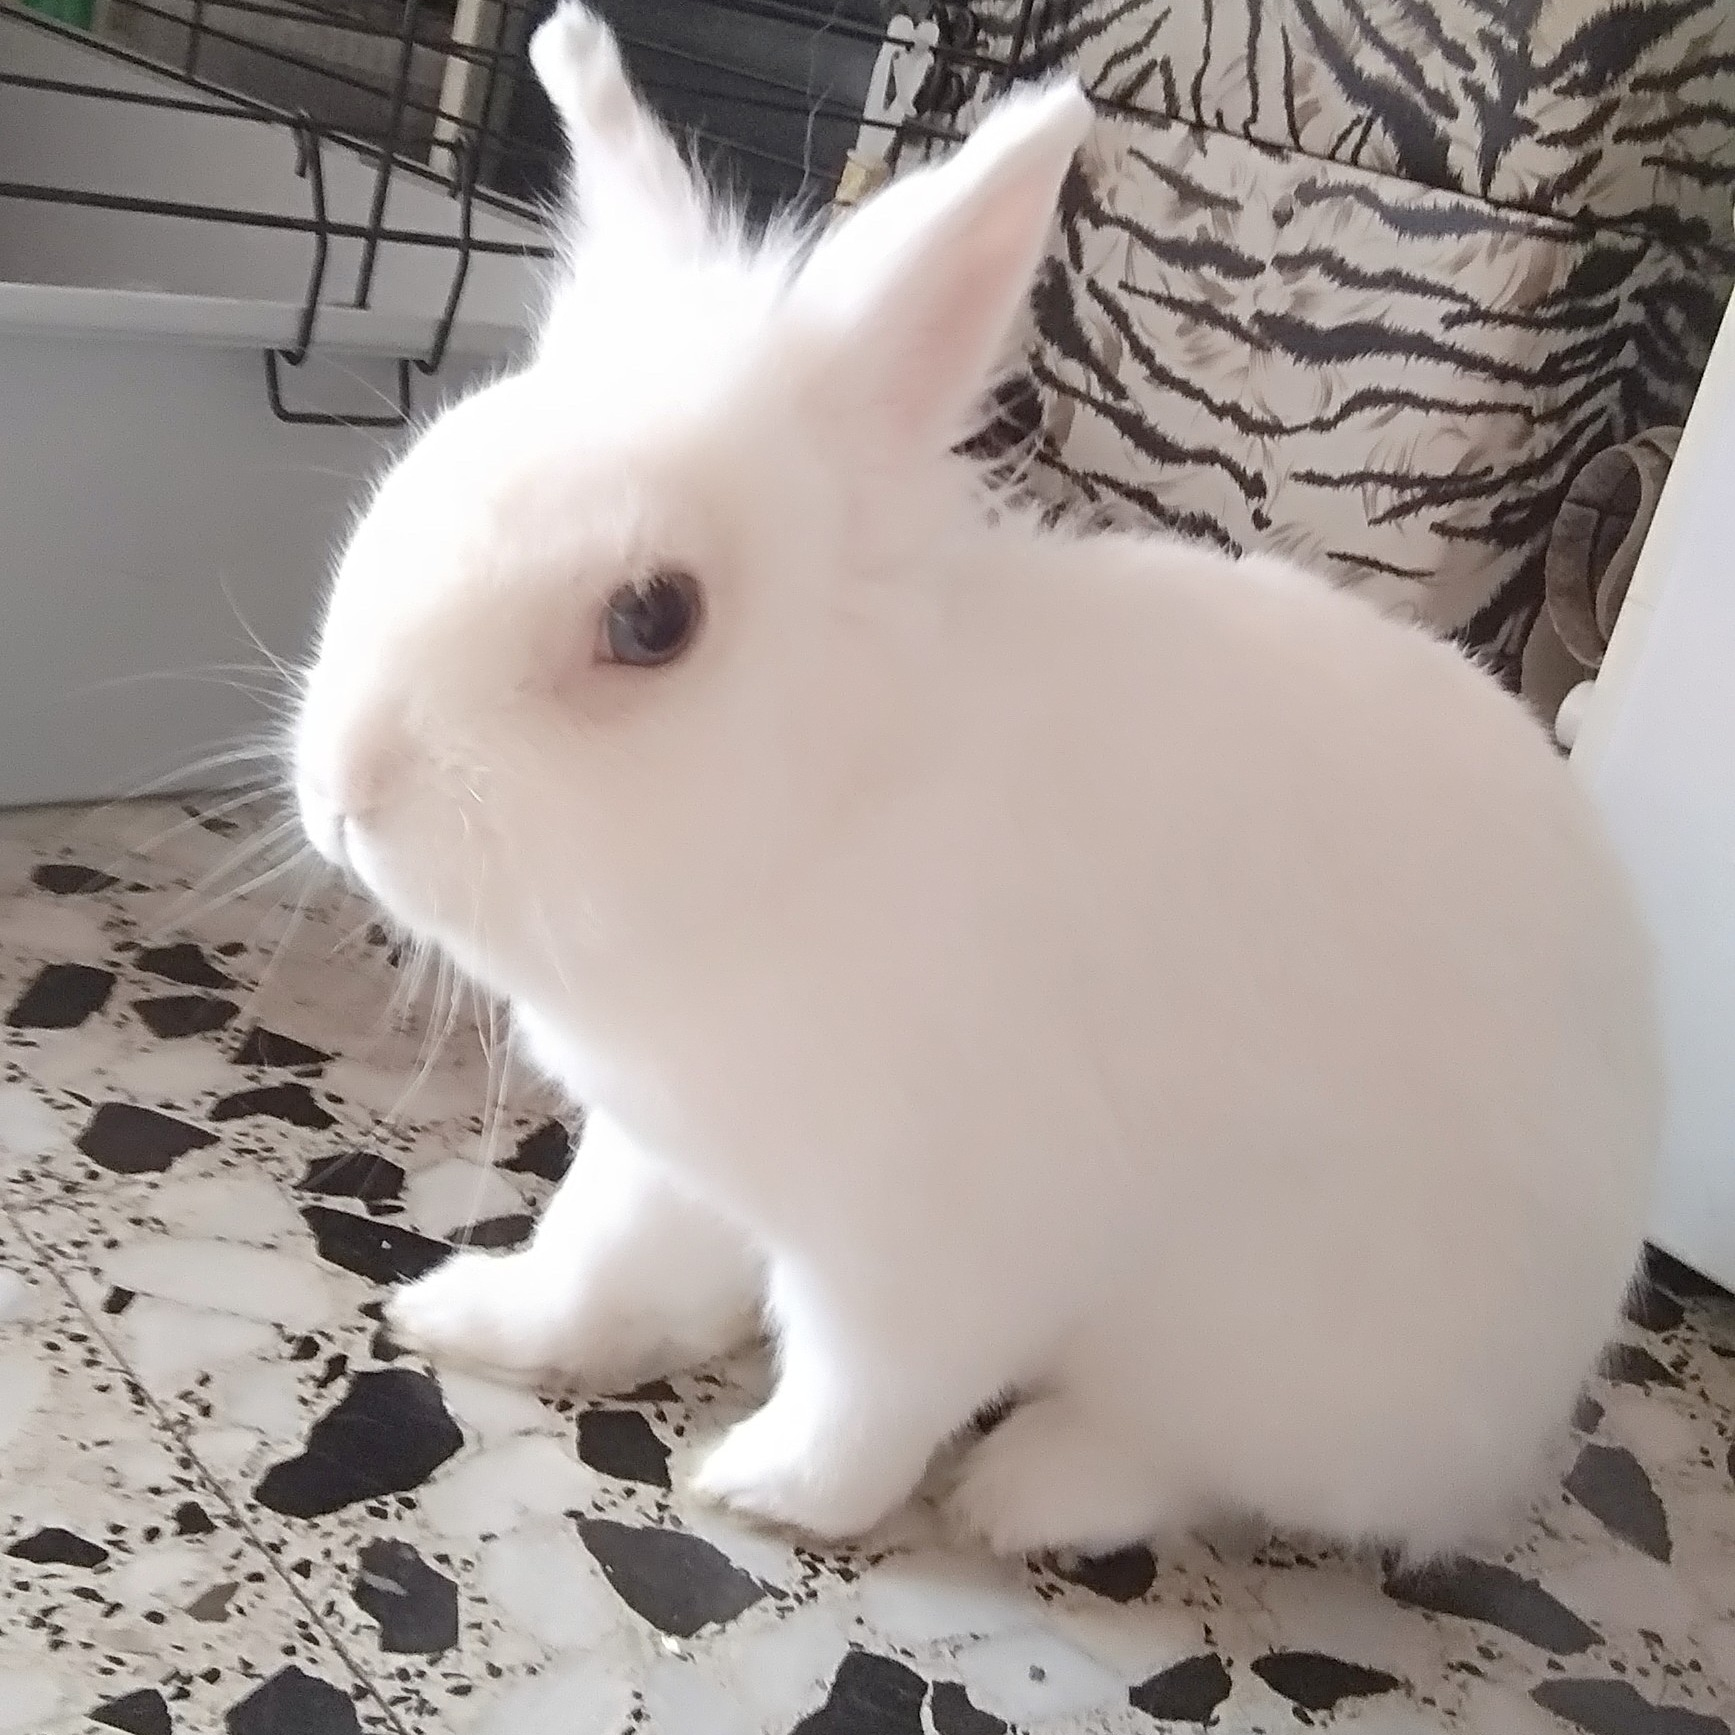bunny: (172, 10, 1664, 1640)
